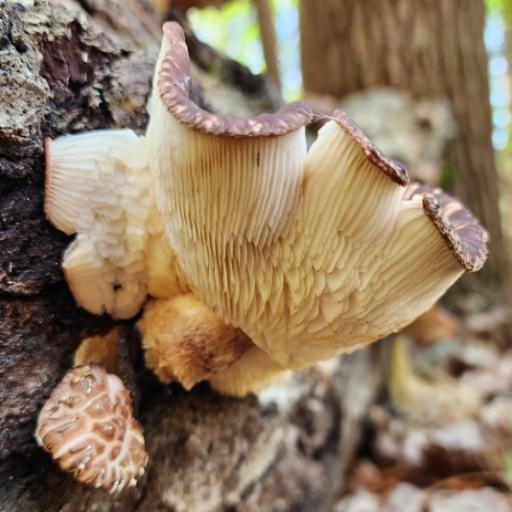Shiitake Mushroom: (0, 0, 493, 465)
